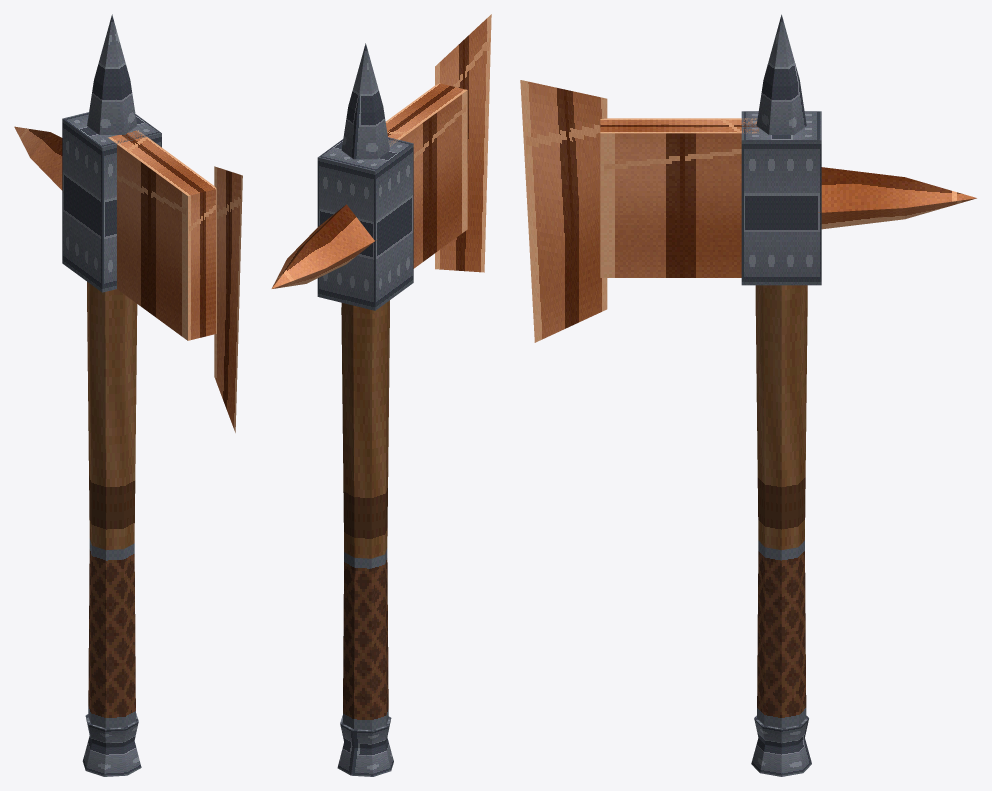
The model's file is machado_de_cobre.glb.
The picture shows the model from 3 angles, left to right: view 1: azimuth 30°, elevation 25°; view 2: azimuth 150°, elevation 25°; view 3: azimuth 270°, elevation 25°; orthographic projection. The views are drawn at different scales.
Parts seen in each view (by area): view 1: machado_de_cobre; view 2: machado_de_cobre; view 3: machado_de_cobre.
Part boxes in pixels (x1,y1,x2,y2): machado_de_cobre: (14,14,242,776); machado_de_cobre: (271,14,491,776); machado_de_cobre: (520,14,976,776).
Size of the model in its own units: 0.096 by 1.14 by 0.63.
Materials: 1 (1 with a texture image).
